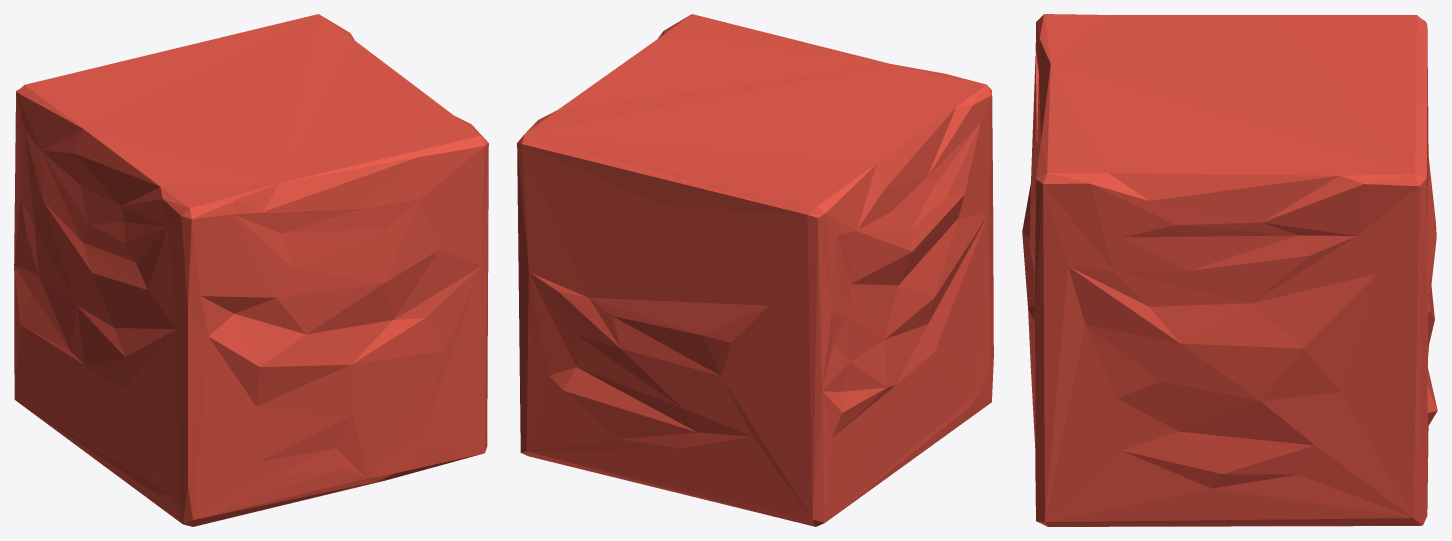
File: SM_Greenscreen_Cube.fbx
3 views of the same model, side by side, from view 1: azimuth 30°, elevation 25°; view 2: azimuth 150°, elevation 25°; view 3: azimuth 270°, elevation 25° (orthographic). The views are drawn at different scales.
Visible parts, largest first — view 1: SM_Greenscreen_Cube; view 2: SM_Greenscreen_Cube; view 3: SM_Greenscreen_Cube.
Boxes of the visible parts, left/top/right/bottom form: SM_Greenscreen_Cube: left=14, top=14, right=488, bottom=526; SM_Greenscreen_Cube: left=517, top=14, right=993, bottom=526; SM_Greenscreen_Cube: left=1022, top=14, right=1437, bottom=526.
Size of the model in its own units: 106 by 106 by 100.
